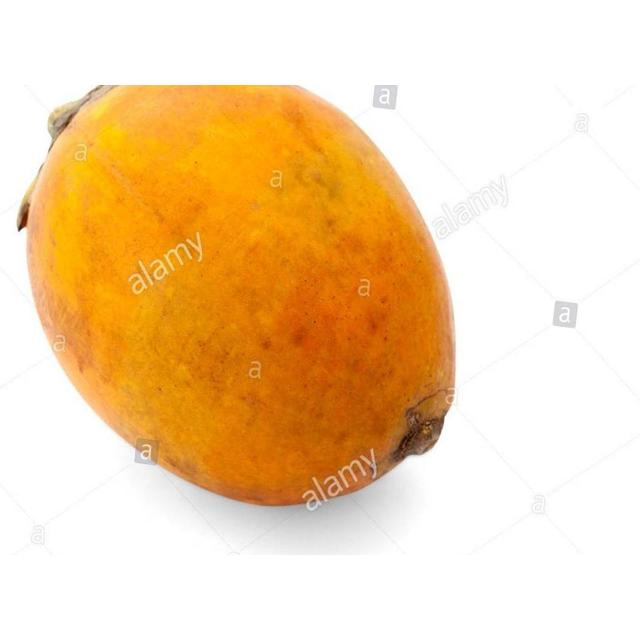good: (18, 85, 458, 509)
